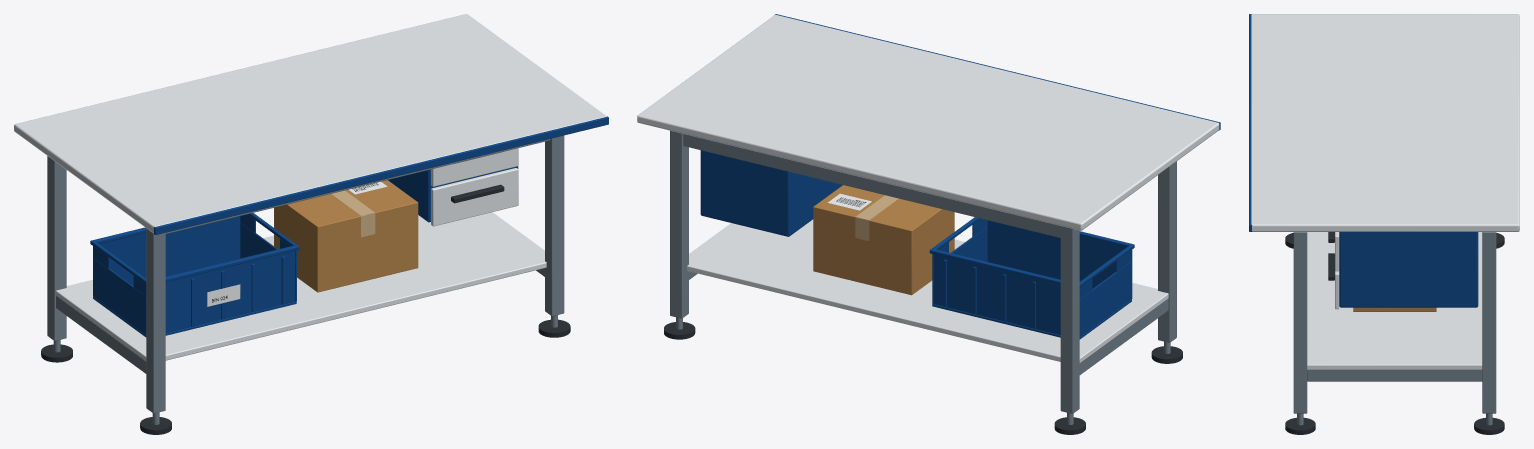
File: workbench_1800.glb
3 views of the same model, side by side, from view 1: azimuth 30°, elevation 25°; view 2: azimuth 150°, elevation 25°; view 3: azimuth 270°, elevation 25° (orthographic). The views are drawn at different scales.
Visible parts, largest first — view 1: Laminate worktop, Underbench shelf, Sealed carton, Tote side, Tote side.001, Edge band, Leg profile, Leg profile.002, Leg profile.001, Drawer face, End below handle, Drawer face.001 (+6 smaller); view 2: Laminate worktop, Underbench shelf, Sealed carton, Drawer unit, Tote side.001, Apron.001, Tote side, Leg profile.001, Leg profile.003, Leg profile, End below handle, Lower crossbar (+4 smaller); view 3: Laminate worktop, Underbench shelf, Drawer unit, Leg profile.003, Leg profile.002, Lower crossbar.001, Edge band, Bench foot_pad.002, Bench foot_pad.003, Sealed carton.
Boxes of the visible parts, bbox=[...] form: Laminate worktop: bbox=[14, 14, 606, 233]; Underbench shelf: bbox=[55, 212, 546, 361]; Sealed carton: bbox=[274, 180, 418, 292]; Tote side: bbox=[165, 245, 295, 332]; Tote side.001: bbox=[93, 216, 240, 285]; Edge band: bbox=[153, 116, 608, 234]; Leg profile: bbox=[146, 228, 165, 413]; Leg profile.002: bbox=[545, 135, 564, 316]; Leg profile.001: bbox=[47, 156, 66, 340]; Drawer face: bbox=[431, 168, 518, 226]; End below handle: bbox=[93, 258, 146, 334]; Drawer face.001: bbox=[431, 148, 518, 186]; Laminate worktop: bbox=[637, 15, 1219, 230]; Underbench shelf: bbox=[687, 219, 1168, 362]; Sealed carton: bbox=[813, 185, 954, 295]; Drawer unit: bbox=[700, 150, 842, 236]; Tote side.001: bbox=[934, 254, 1060, 334]; Apron.001: bbox=[683, 134, 1060, 237]; Tote side: bbox=[987, 220, 1131, 288]; Leg profile.001: bbox=[1060, 226, 1079, 413]; Leg profile.003: bbox=[670, 130, 688, 318]; Leg profile: bbox=[1158, 161, 1176, 342]; End below handle: bbox=[1079, 261, 1132, 336]; Lower crossbar: bbox=[1079, 298, 1168, 374]; Laminate worktop: bbox=[1251, 14, 1519, 231]; Underbench shelf: bbox=[1307, 232, 1482, 369]; Drawer unit: bbox=[1339, 232, 1478, 307]; Leg profile.003: bbox=[1482, 232, 1496, 413]; Leg profile.002: bbox=[1293, 232, 1307, 413]; Lower crossbar.001: bbox=[1307, 369, 1482, 381]; Edge band: bbox=[1249, 14, 1252, 231]; Bench foot_pad.002: bbox=[1285, 417, 1315, 434]; Bench foot_pad.003: bbox=[1474, 417, 1504, 434]; Sealed carton: bbox=[1353, 307, 1436, 311].
Size of the model in its own units: 1.8 by 0.86 by 0.975.
